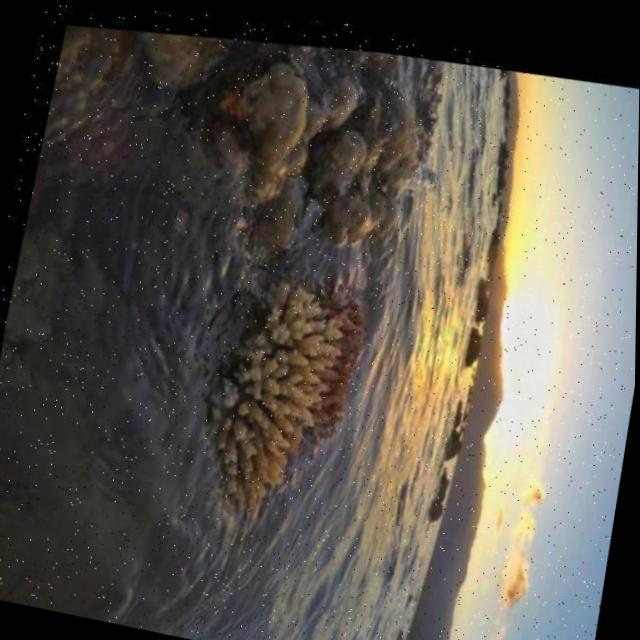Healthy Coral: (185, 237, 384, 535)
